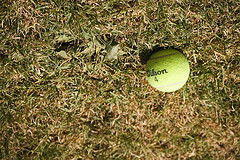tennis ball: (144, 49, 190, 93)
